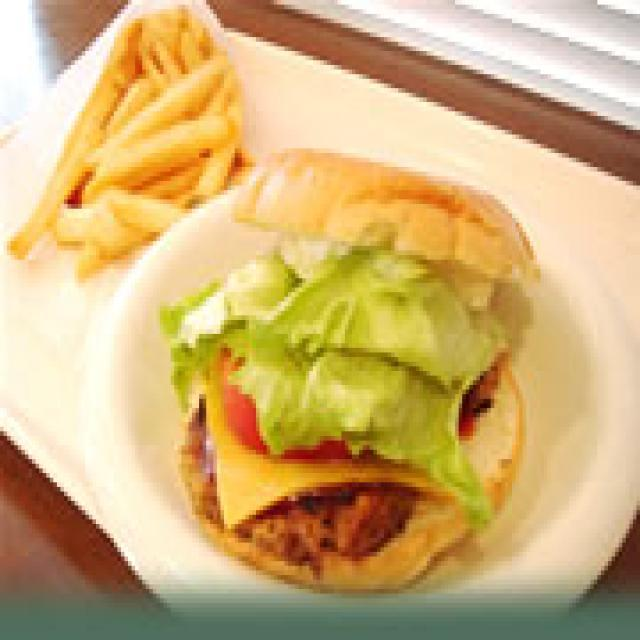Hamburger: (186, 153, 542, 603)
